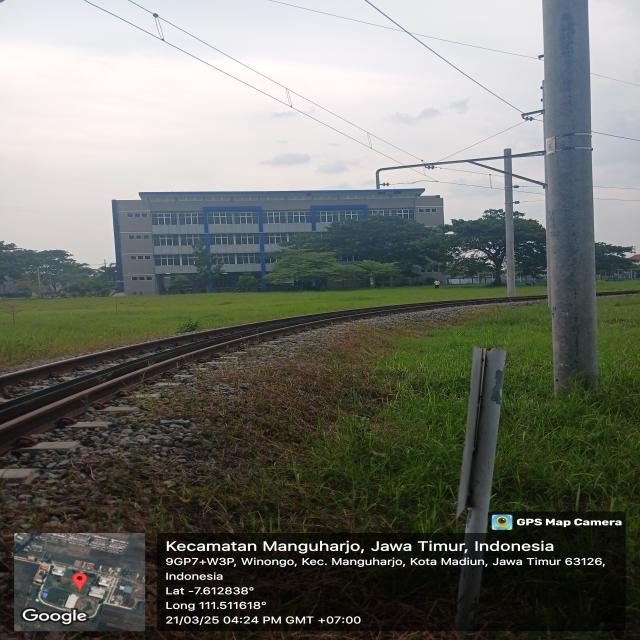rail-detection: (0, 298, 510, 454)
